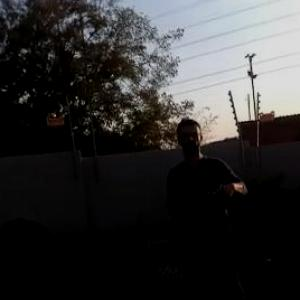follow: (160, 114, 261, 299)
